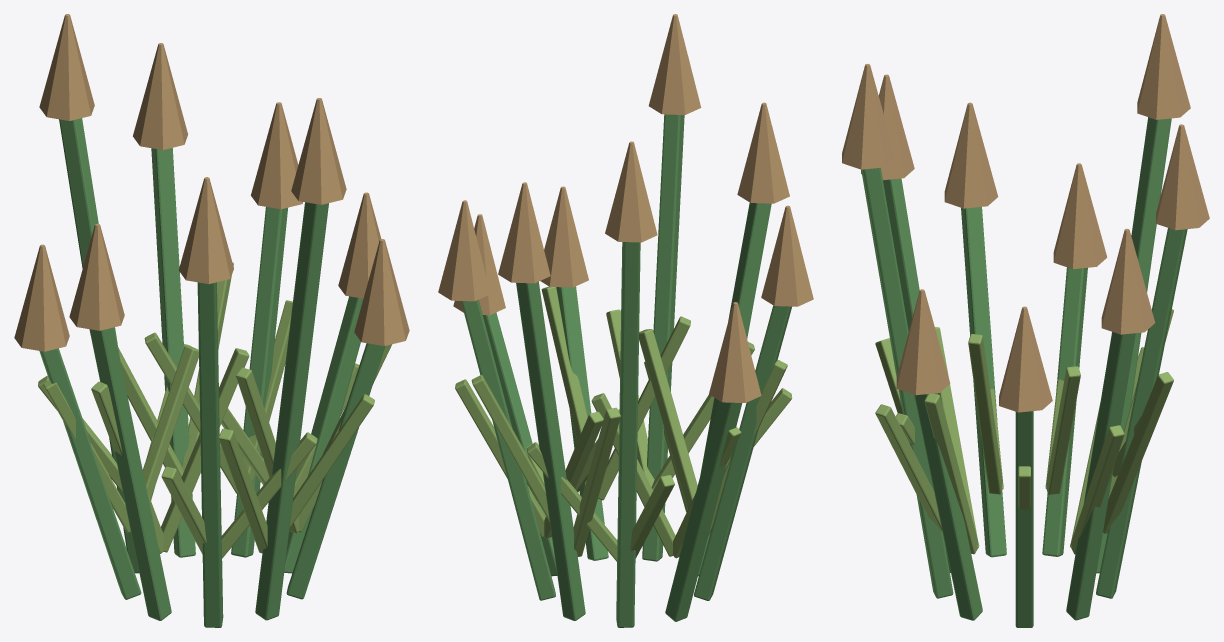
Rendered from reed_clump.glb.
The picture shows the model from 3 angles, left to right: view 1: azimuth 30°, elevation 25°; view 2: azimuth 150°, elevation 25°; view 3: azimuth 270°, elevation 25°; orthographic projection. The views are drawn at different scales.
Parts seen in each view (by area): view 1: RiverReedClump_Geometry; view 2: RiverReedClump_Geometry; view 3: RiverReedClump_Geometry.
Boxes of the visible parts, bbox=[...] form: RiverReedClump_Geometry: bbox=[14, 14, 409, 627]; RiverReedClump_Geometry: bbox=[438, 14, 813, 627]; RiverReedClump_Geometry: bbox=[842, 14, 1209, 627].
Size of the model in its own units: 0.7667 by 1.15 by 0.7151.
